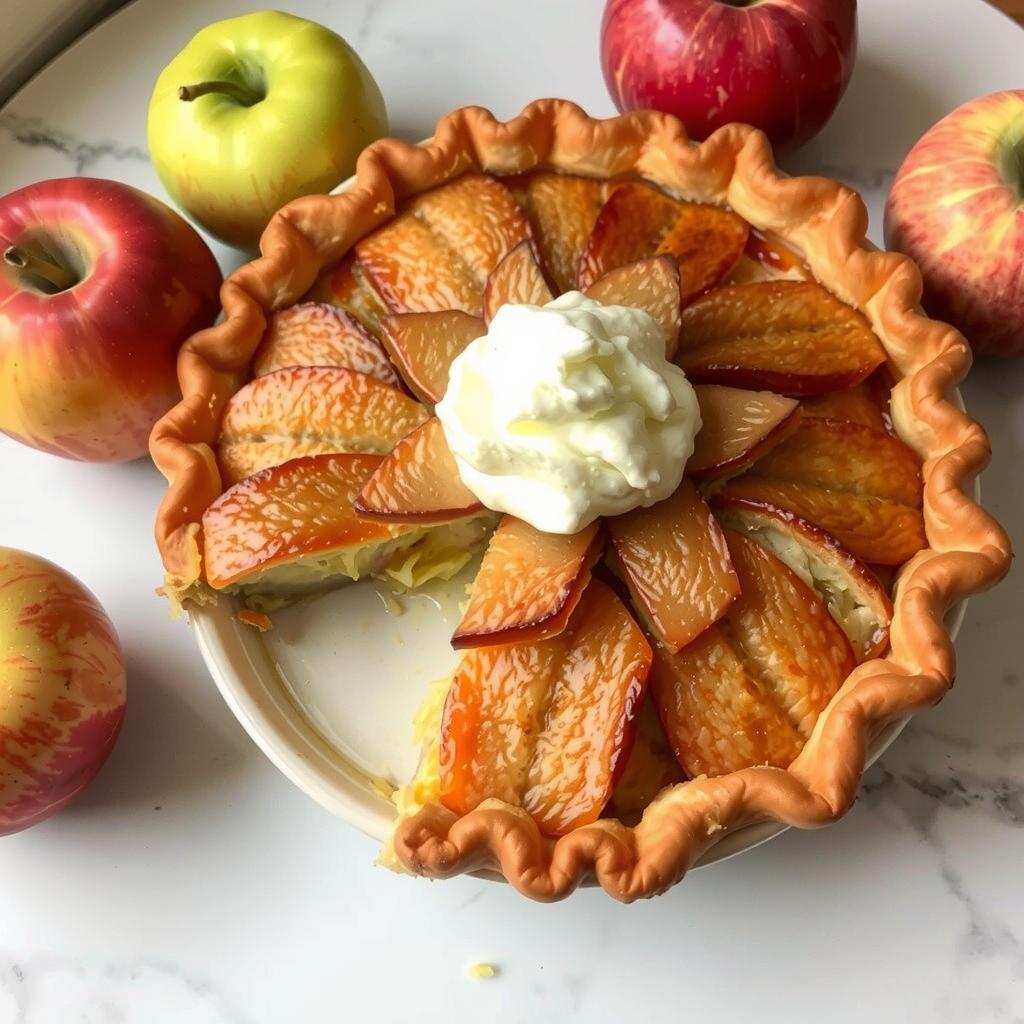pie: (130, 93, 1024, 917)
